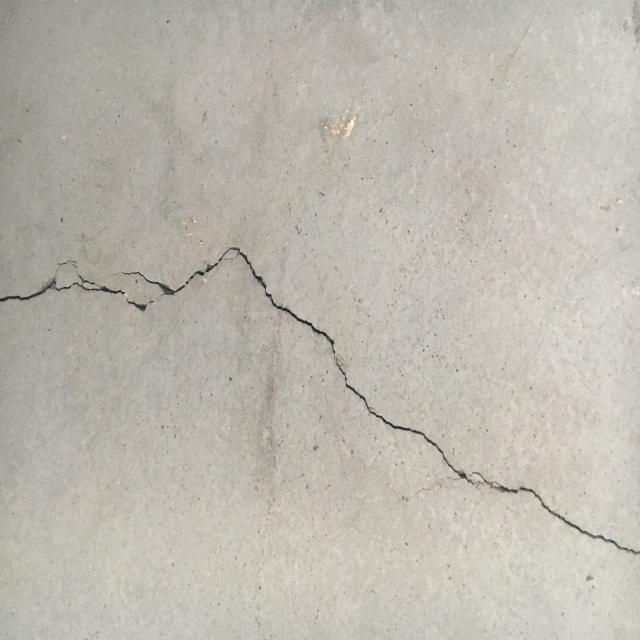Rachadura: (0, 244, 640, 557)
